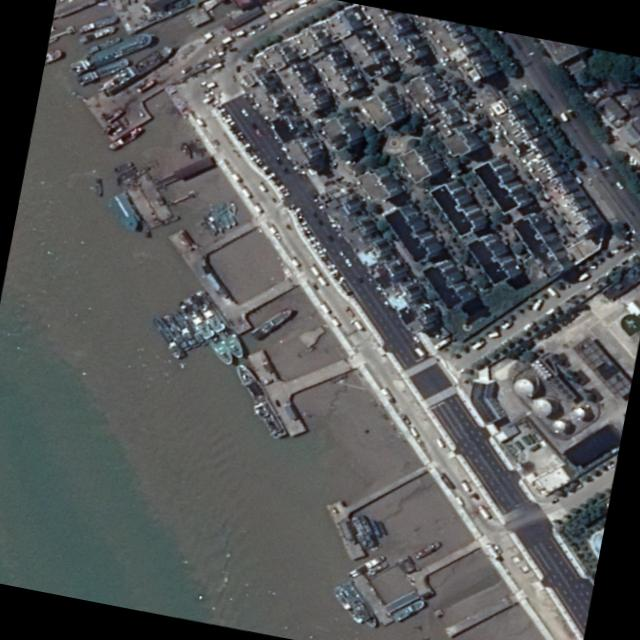ship: (189, 288, 250, 359), (233, 362, 288, 439), (177, 297, 236, 366), (71, 30, 156, 75), (102, 43, 176, 93), (340, 578, 381, 628), (78, 56, 131, 86), (152, 315, 187, 358), (250, 307, 294, 340), (330, 584, 364, 624), (172, 309, 201, 347), (164, 313, 192, 351), (108, 125, 145, 151), (348, 554, 387, 578), (391, 598, 427, 622), (79, 14, 120, 34), (78, 25, 118, 45), (358, 514, 380, 547), (351, 516, 371, 549), (412, 540, 443, 559)
storage-tank: (530, 393, 561, 419), (511, 373, 541, 399), (551, 414, 572, 435), (573, 402, 593, 420)
